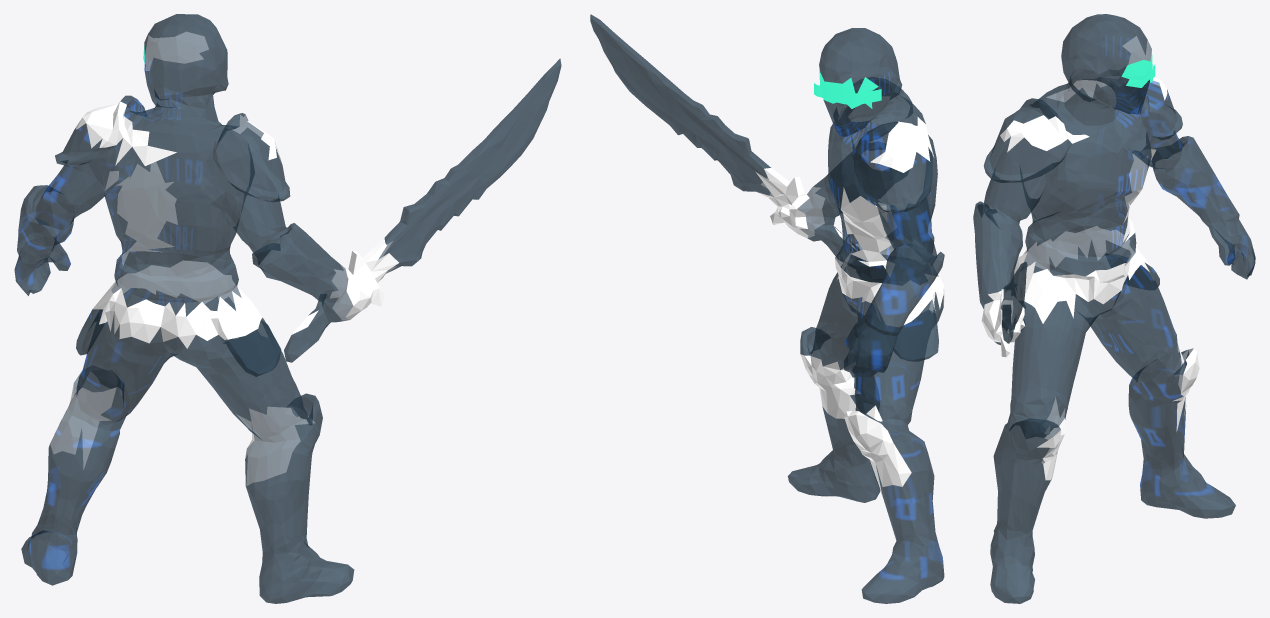
File: guerrier_v2.glb
The picture shows the model from 3 angles, left to right: view 1: azimuth 30°, elevation 25°; view 2: azimuth 150°, elevation 25°; view 3: azimuth 270°, elevation 25°; orthographic projection. The views are drawn at different scales.
Parts seen in each view (by area): view 1: guerrier; view 2: guerrier; view 3: guerrier.
Part boxes in pixels (x1,y1,x2,y2): guerrier: (14, 14, 561, 603); guerrier: (590, 14, 944, 603); guerrier: (973, 14, 1255, 603).
Size of the model in its own units: 1.69 by 1.96 by 0.9408.
